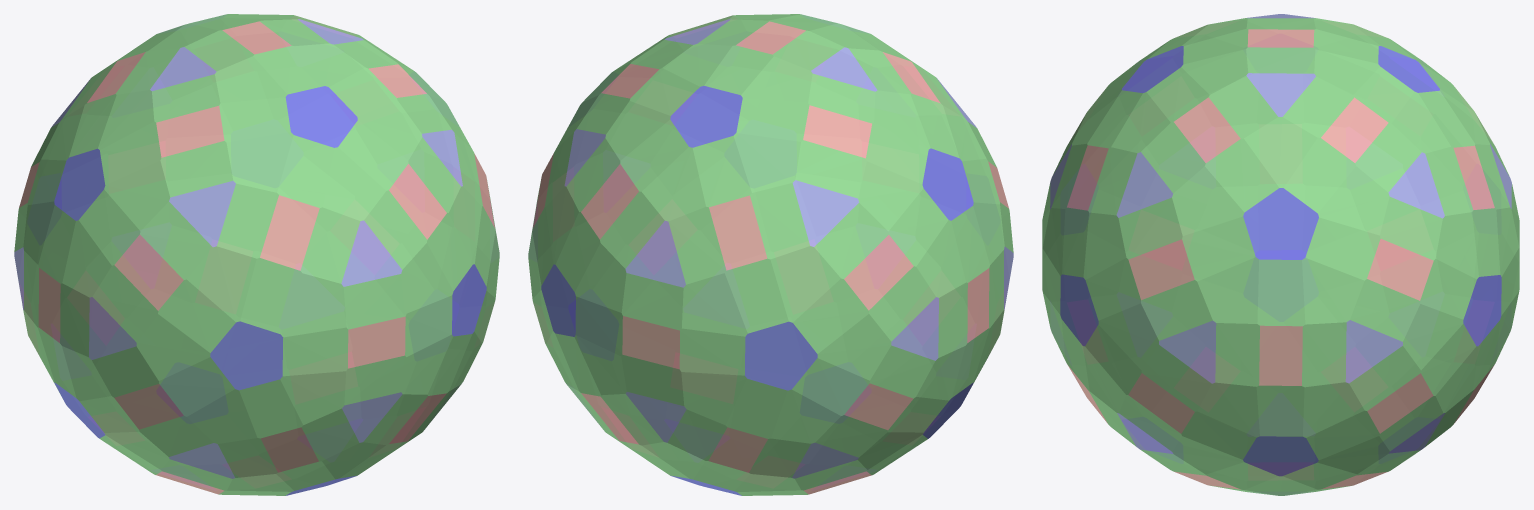
Rendered from BiscribedPropelloTruncatedIcosidodecahedron.obj.
3 views of the same model, side by side, from view 1: azimuth 30°, elevation 25°; view 2: azimuth 150°, elevation 25°; view 3: azimuth 270°, elevation 25° (orthographic).
Size of the model in its own units: 2 by 2 by 2.
